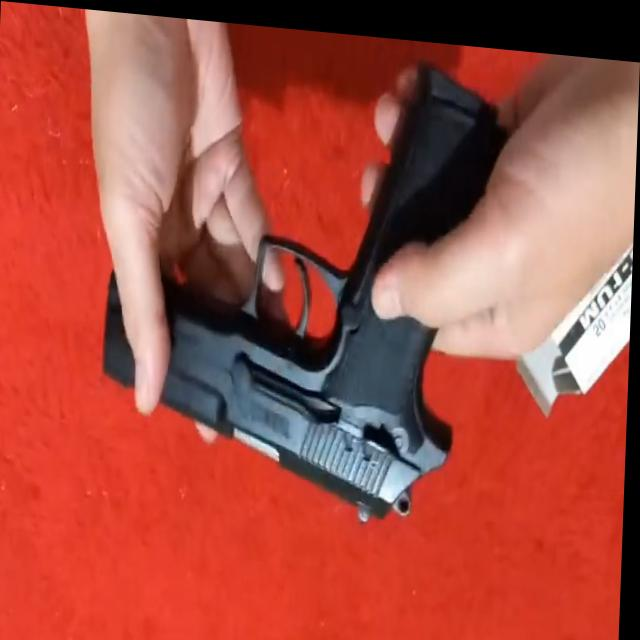handgun: (93, 22, 514, 538)
